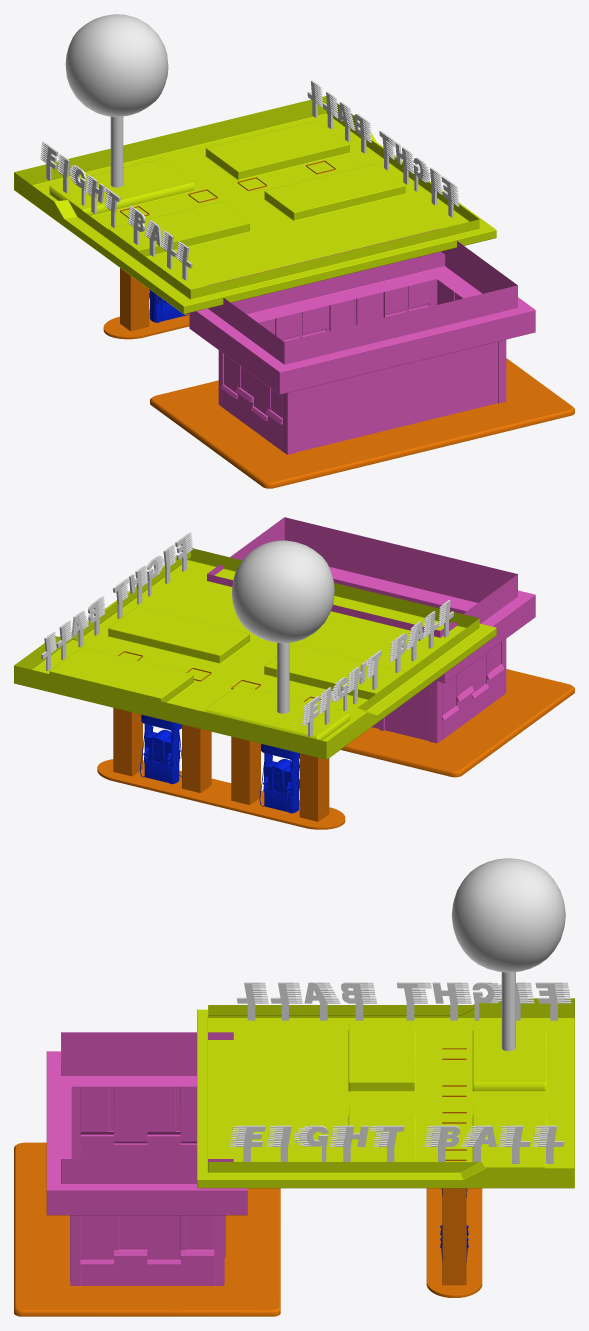
The model's file is gas station export.fbx.
3 views of the same model, one above another, from view 1: azimuth 30°, elevation 25°; view 2: azimuth 150°, elevation 25°; view 3: azimuth 270°, elevation 25° (orthographic). The views are drawn at different scales.
Visible parts, largest first — view 1: Cube.004, Cube.005, Cube.003, Cube.006, Cube.002; view 2: Cube.004, Cube.005, Cube.003, Cube.006, Cube.002; view 3: Cube.004, Cube.005, Cube.003, Cube.006.
Boxes of the visible parts, box(x1,y1,x2,y2) form: Cube.004: box(14, 96, 496, 314); Cube.005: box(189, 228, 535, 454); Cube.003: box(103, 160, 574, 488); Cube.006: box(40, 14, 459, 280); Cube.002: box(149, 289, 188, 322); Cube.004: box(14, 548, 496, 759); Cube.005: box(207, 517, 535, 743); Cube.003: box(97, 651, 574, 829); Cube.006: box(41, 532, 453, 736); Cube.002: box(140, 714, 299, 813); Cube.004: box(197, 998, 574, 1188); Cube.005: box(46, 1032, 247, 1285); Cube.003: box(14, 1048, 482, 1316); Cube.006: box(229, 858, 571, 1163).
Bounding box in the file's own units: 14.32 × 12.7 × 19.97.
